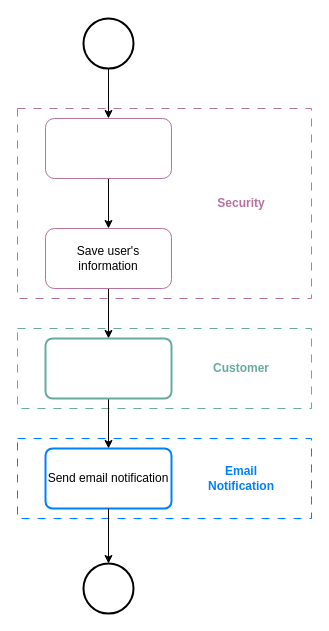
Image size: 329x631. Some labels were removed from this diagram. The centre of each missing label's shape, as x and y in pixels:
Save customer information: the point at 108,368
Validate email: the point at 108,148
